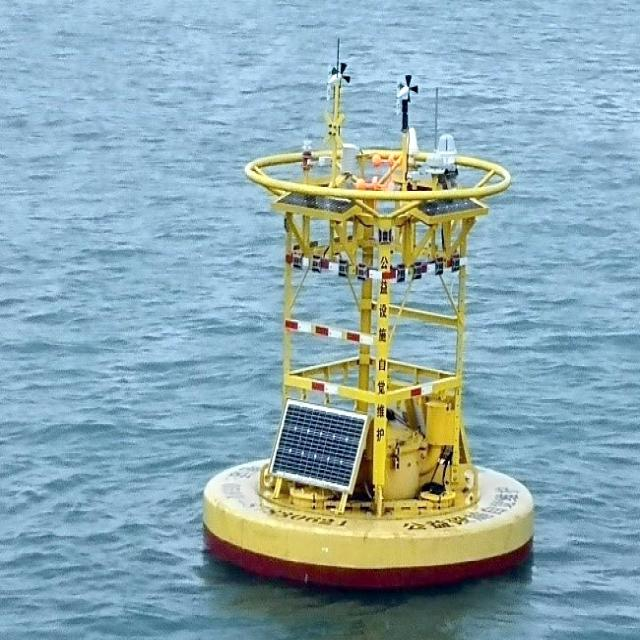buoy: (201, 78, 532, 578)
